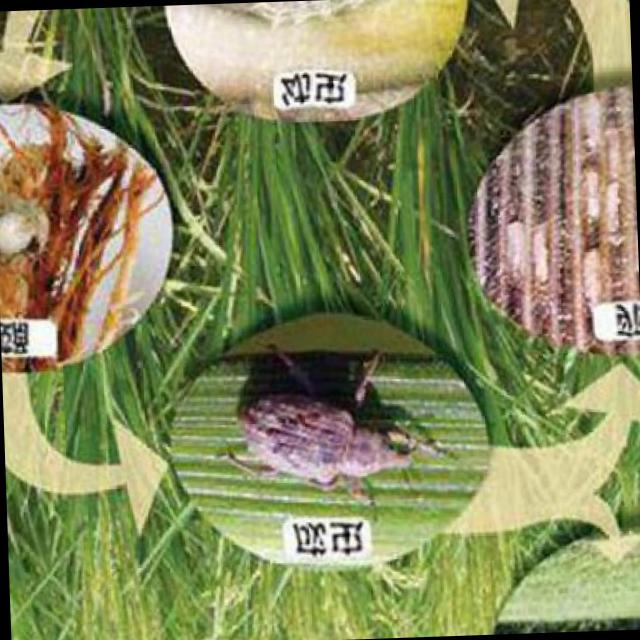rice-bug: (230, 354, 412, 508)
